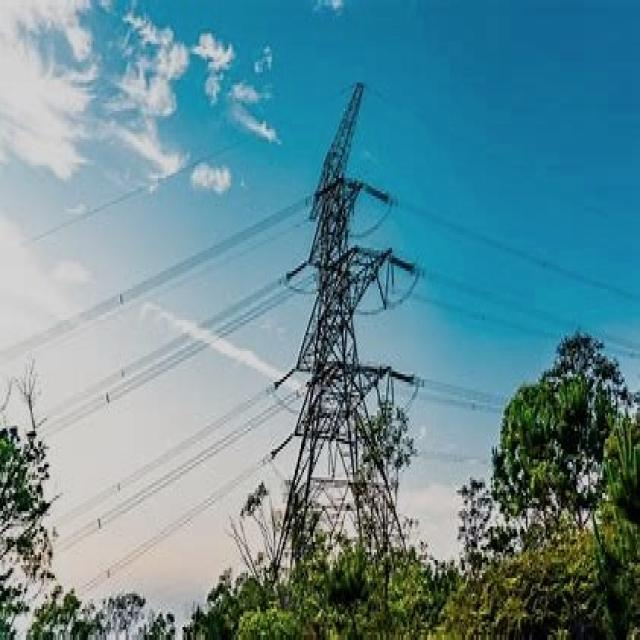utility poles: (490, 274, 624, 537), (327, 364, 435, 597)
